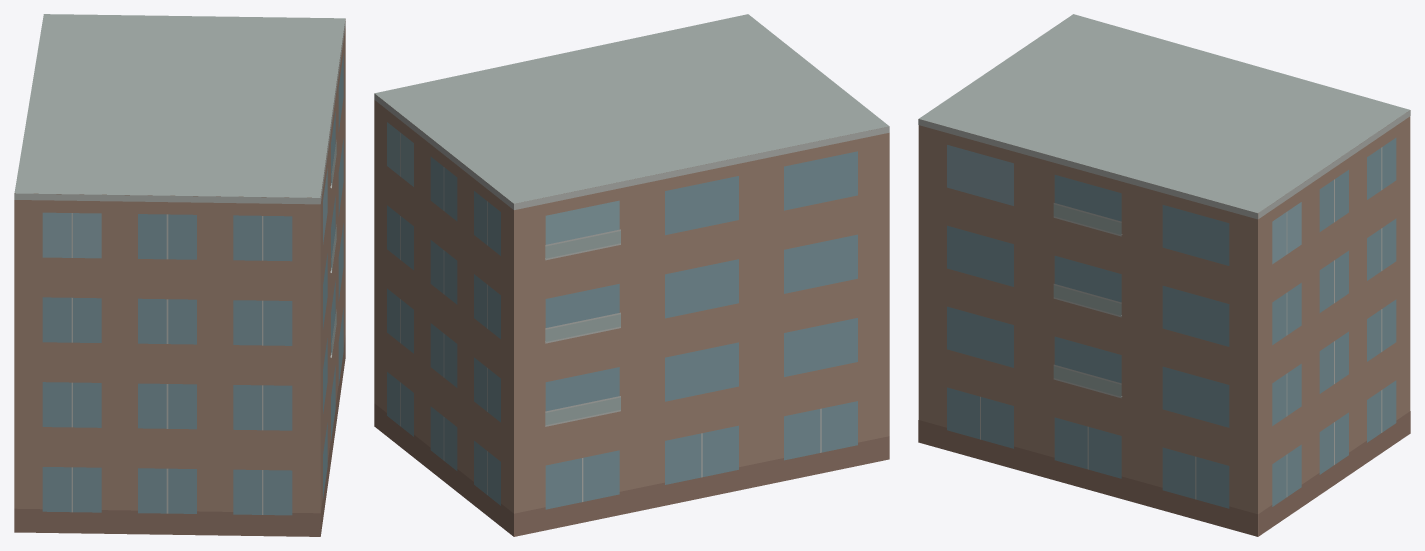
File: survey-upis-32927251.glb
3 views of the same model, side by side, from view 1: azimuth 30°, elevation 25°; view 2: azimuth 150°, elevation 25°; view 3: azimuth 270°, elevation 25° (orthographic). The views are drawn at different scales.
Visible parts, largest first — view 1: survey-upis-32927251.tmp; view 2: survey-upis-32927251.tmp; view 3: survey-upis-32927251.tmp.
Boxes of the visible parts, x1,y1,x2,y2 form: survey-upis-32927251.tmp: [14, 14, 345, 536]; survey-upis-32927251.tmp: [374, 14, 889, 536]; survey-upis-32927251.tmp: [918, 14, 1410, 536].
Bounding box in the file's own units: 16.89 × 12.78 × 17.61.
